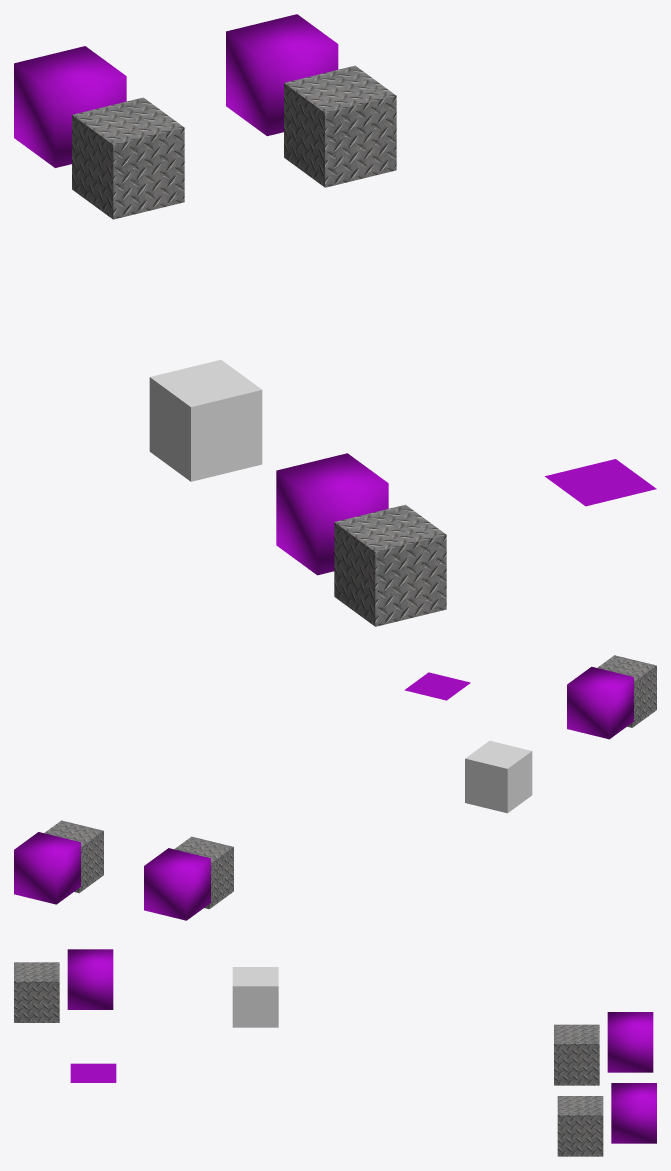
The model's file is test_blend.dae.
3 views of the same model, one above another, from view 1: azimuth 30°, elevation 25°; view 2: azimuth 150°, elevation 25°; view 3: azimuth 270°, elevation 25° (orthographic). The views are drawn at different scales.
Visible parts, largest first — view 1: JoinedCubes, Dup2, Dup1, CubeNoMat, Plane; view 2: JoinedCubes, Dup1, Dup2, CubeNoMat, Plane; view 3: Dup1, JoinedCubes, Dup2, CubeNoMat, Plane.
Part boxes in pixels (box(x1,y1,x2,y2)): JoinedCubes: box(276, 453, 446, 626); Dup2: box(226, 14, 396, 187); Dup1: box(14, 46, 184, 219); CubeNoMat: box(149, 360, 262, 481); Plane: box(545, 459, 656, 506); JoinedCubes: box(567, 655, 656, 739); Dup1: box(144, 836, 233, 920); Dup2: box(14, 820, 103, 904); CubeNoMat: box(465, 740, 532, 813); Plane: box(404, 672, 470, 700); Dup1: box(554, 1012, 653, 1085); JoinedCubes: box(14, 949, 113, 1022); Dup2: box(557, 1083, 656, 1156); CubeNoMat: box(232, 967, 278, 1027); Plane: box(70, 1063, 116, 1082).
Size of the model in its own units: 14.58 by 28.11 by 3.2.
